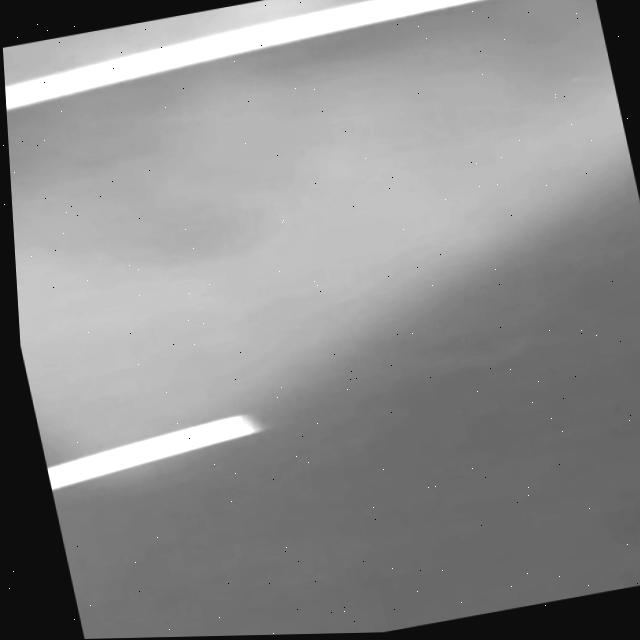center: (47, 415, 261, 490)
right: (5, 0, 487, 110)
